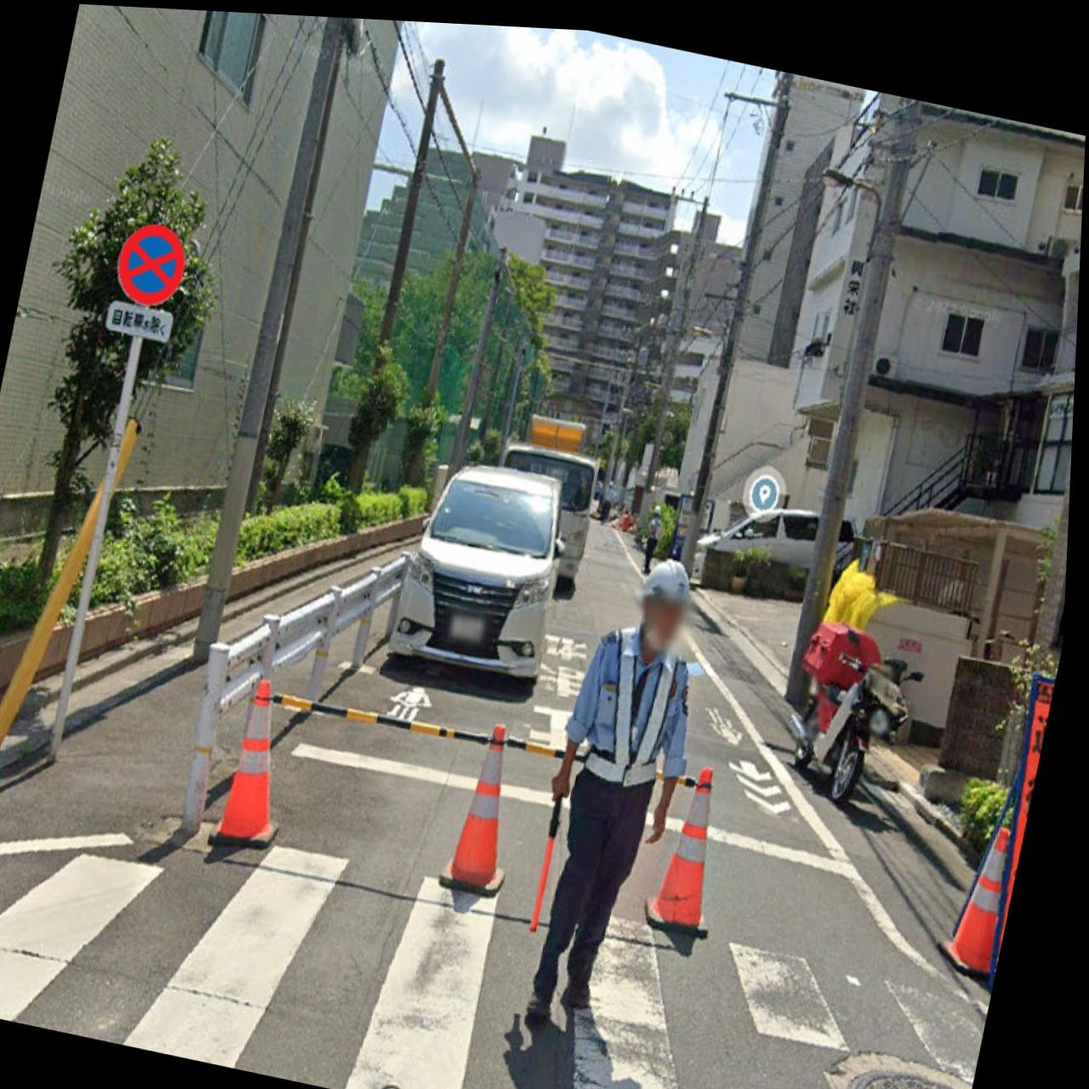stop_sign: (108, 213, 194, 313)
